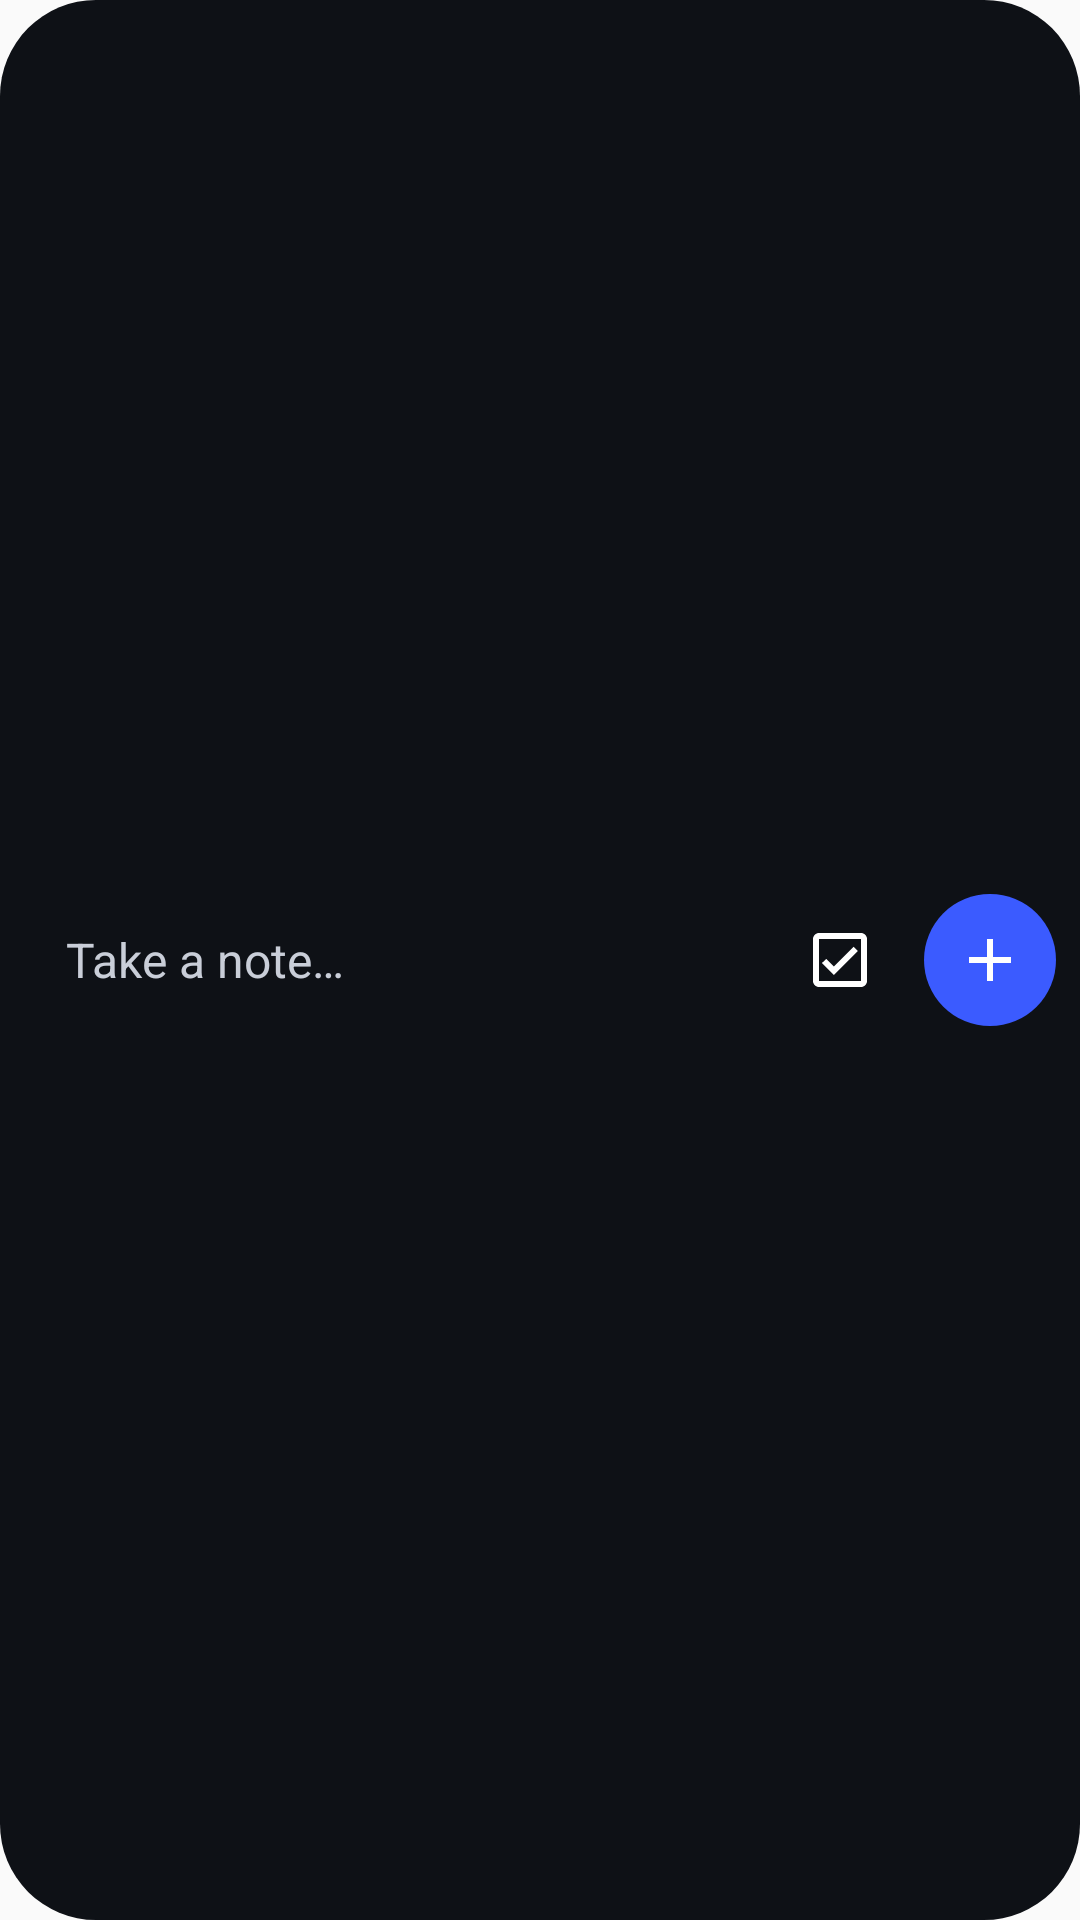

Icon bounding boxes for this 1080x1920 phone screenshot, format {"x1": x1, "y1": y1, "x2": x2, "y2": y2}:
New checklist: {"x1": 813, "y1": 933, "x2": 867, "y2": 987}
New note: {"x1": 924, "y1": 894, "x2": 1056, "y2": 1026}
